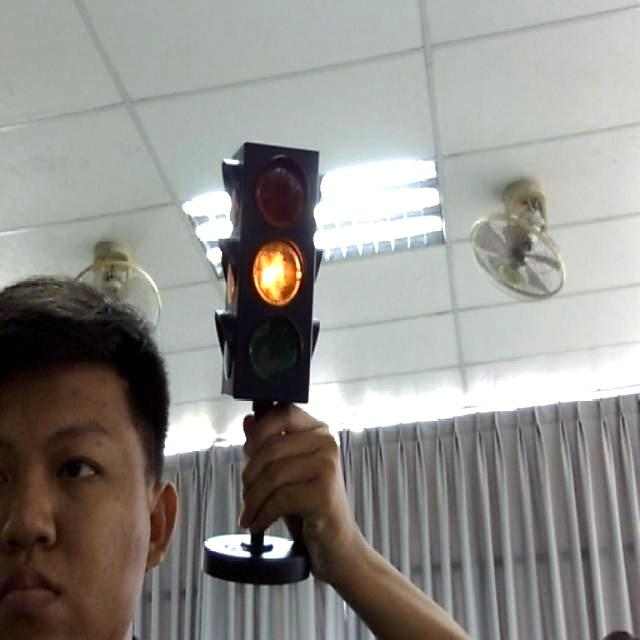Yellow: (218, 130, 328, 403)
